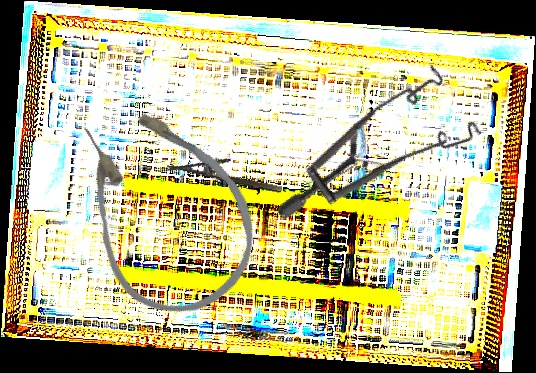Cannula: (47, 75, 282, 338)
Needle Holder: (166, 146, 286, 195)
Speculum: (274, 32, 500, 284)
